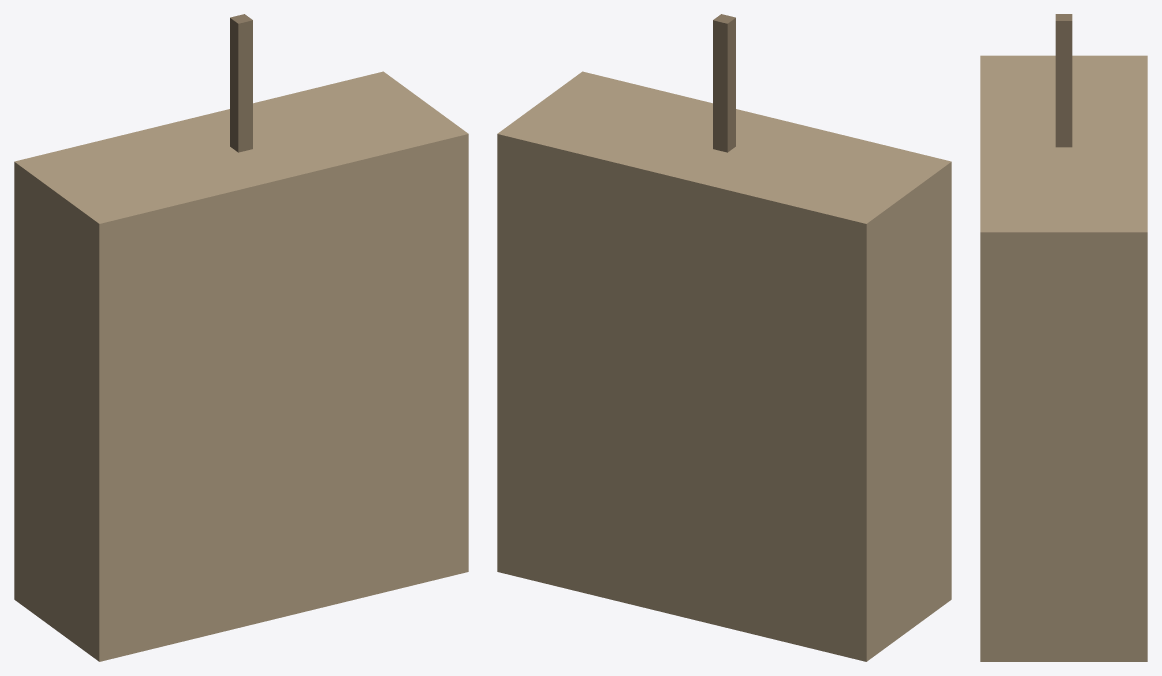
The model's file is 1027-People-held-props-bag.glb.
3 views of the same model, side by side, from view 1: azimuth 30°, elevation 25°; view 2: azimuth 150°, elevation 25°; view 3: azimuth 270°, elevation 25° (orthographic).
Parts seen in each view (by area): view 1: People: held props/bag; view 2: People: held props/bag; view 3: People: held props/bag.
Part boxes in pixels (x1=…): People: held props/bag: x1=14, y1=14, x2=468, y2=661; People: held props/bag: x1=497, y1=14, x2=951, y2=661; People: held props/bag: x1=980, y1=14, x2=1147, y2=661.
Bounding box in the file's own units: 0.3 × 0.44 × 0.12.
